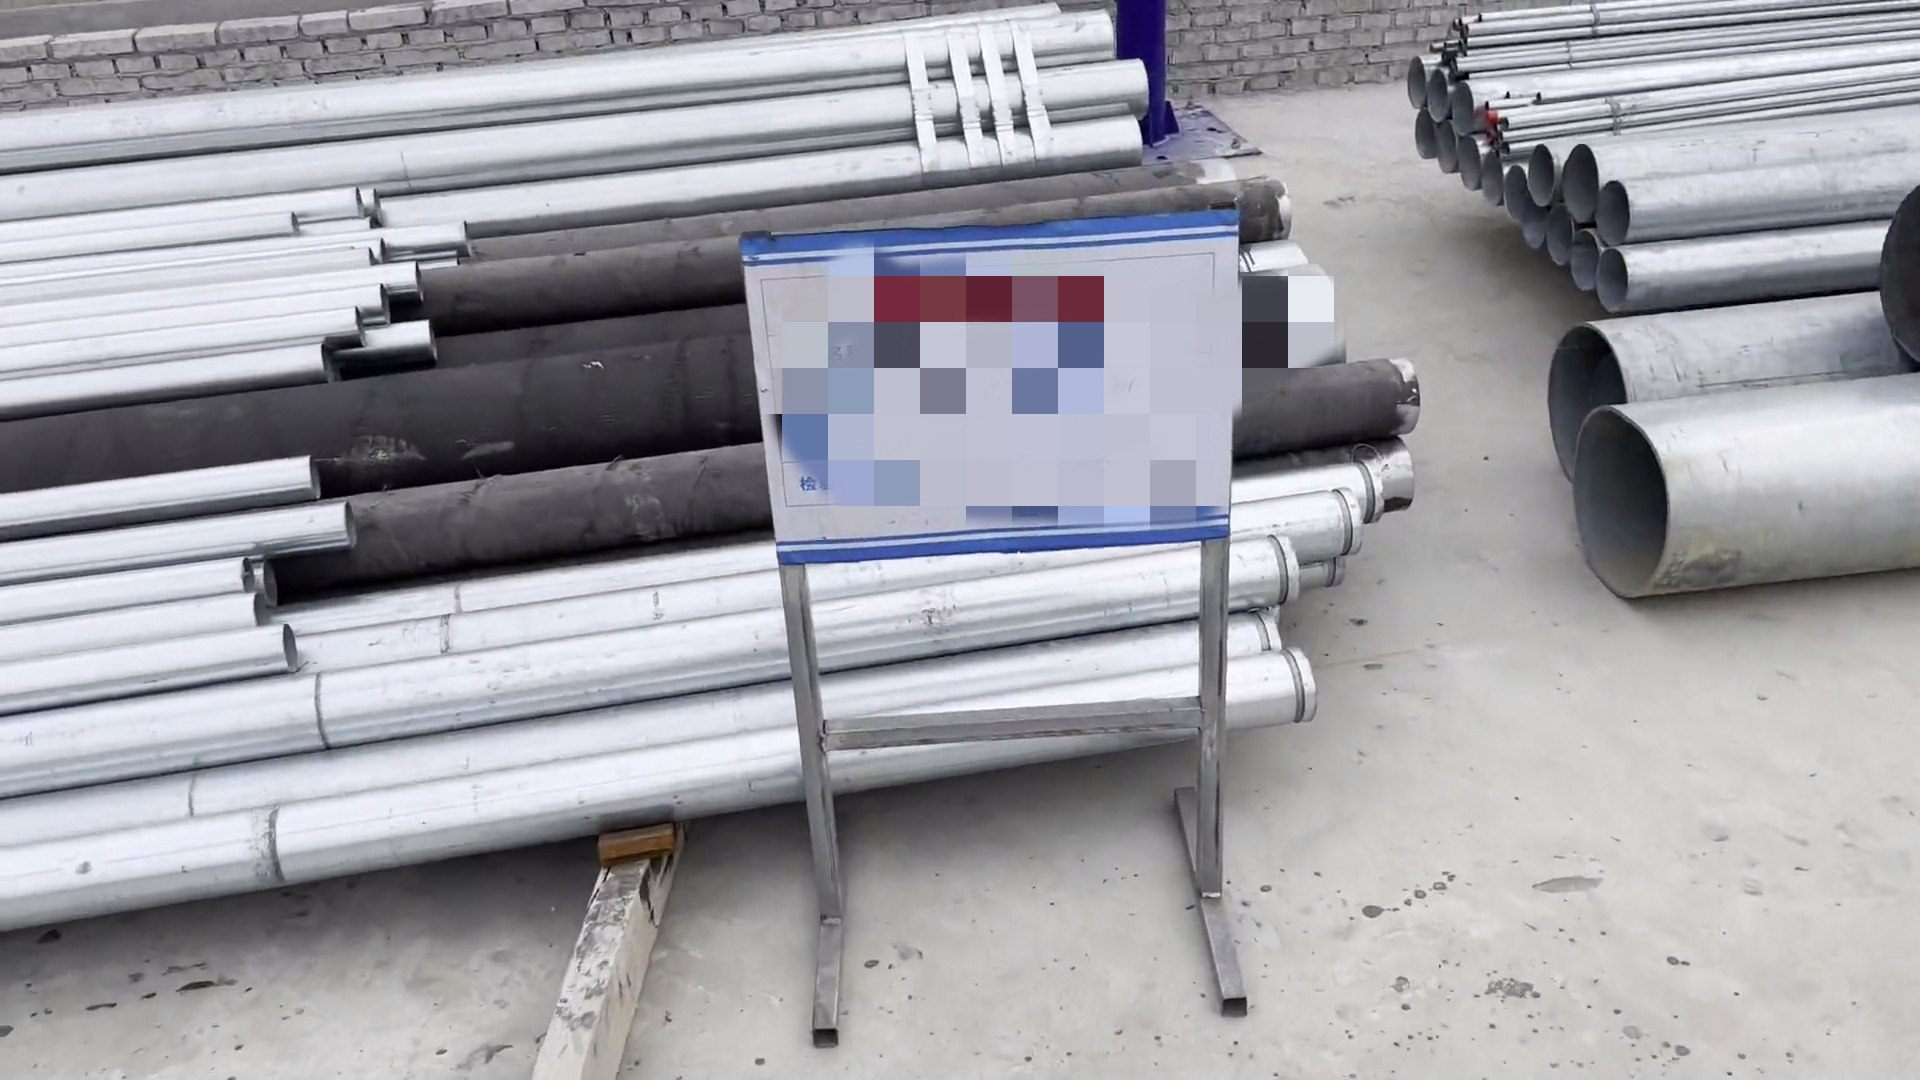brick: (1160, 1, 1441, 95), (3, 26, 314, 103), (305, 8, 715, 66), (707, 1, 1000, 30)
slogan: (717, 193, 1271, 574)
